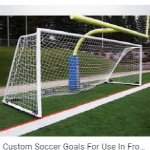goals: (2, 27, 144, 121)
